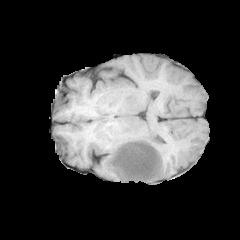glioma: (102, 133, 169, 182)
